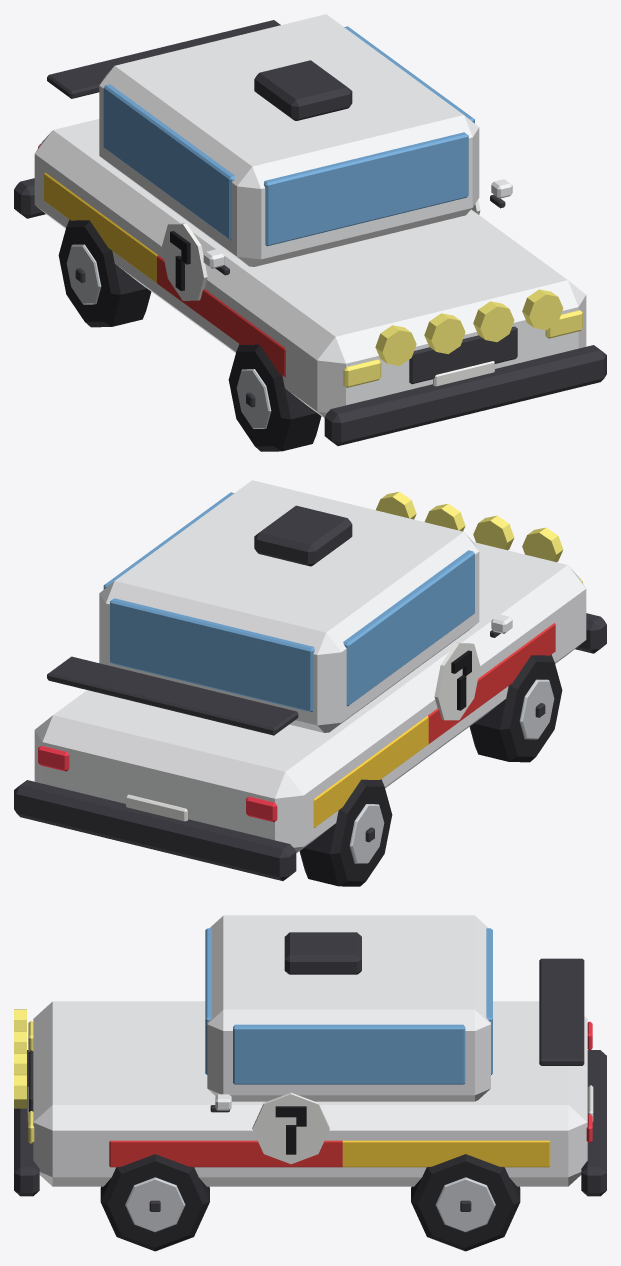
File: RallyCar.fbx
3 renders of one model, top to bottom at view 1: azimuth 30°, elevation 25°; view 2: azimuth 150°, elevation 25°; view 3: azimuth 270°, elevation 25°, orthographic. The views are drawn at different scales.
Visible parts, largest first — view 1: RallyCar, RallyCar_WheelBR, RallyCar_WheelFR; view 2: RallyCar, RallyCar_WheelFR, RallyCar_WheelBR; view 3: RallyCar, RallyCar_WheelBL, RallyCar_WheelFL.
Boxes of the visible parts, x1=… form: RallyCar: x1=14, y1=14, x2=606, y2=445; RallyCar_WheelBR: x1=58, y1=219, x2=151, y2=327; RallyCar_WheelFR: x1=228, y1=344, x2=321, y2=451; RallyCar: x1=14, y1=480, x2=606, y2=880; RallyCar_WheelFR: x1=469, y1=654, x2=562, y2=762; RallyCar_WheelBR: x1=299, y1=779, x2=392, y2=886; RallyCar: x1=14, y1=915, x2=606, y2=1196; RallyCar_WheelBL: x1=411, y1=1154, x2=520, y2=1251; RallyCar_WheelFL: x1=100, y1=1154, x2=209, y2=1251.
Size of the model in its own units: 4.95 by 4.25 by 9.2.
Materials: 1 (1 with a texture image).
